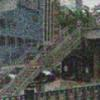stairs: (1, 67, 38, 96)
